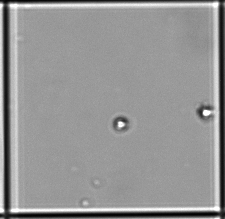Living Cell: (114, 116, 128, 132), (198, 105, 214, 119)
